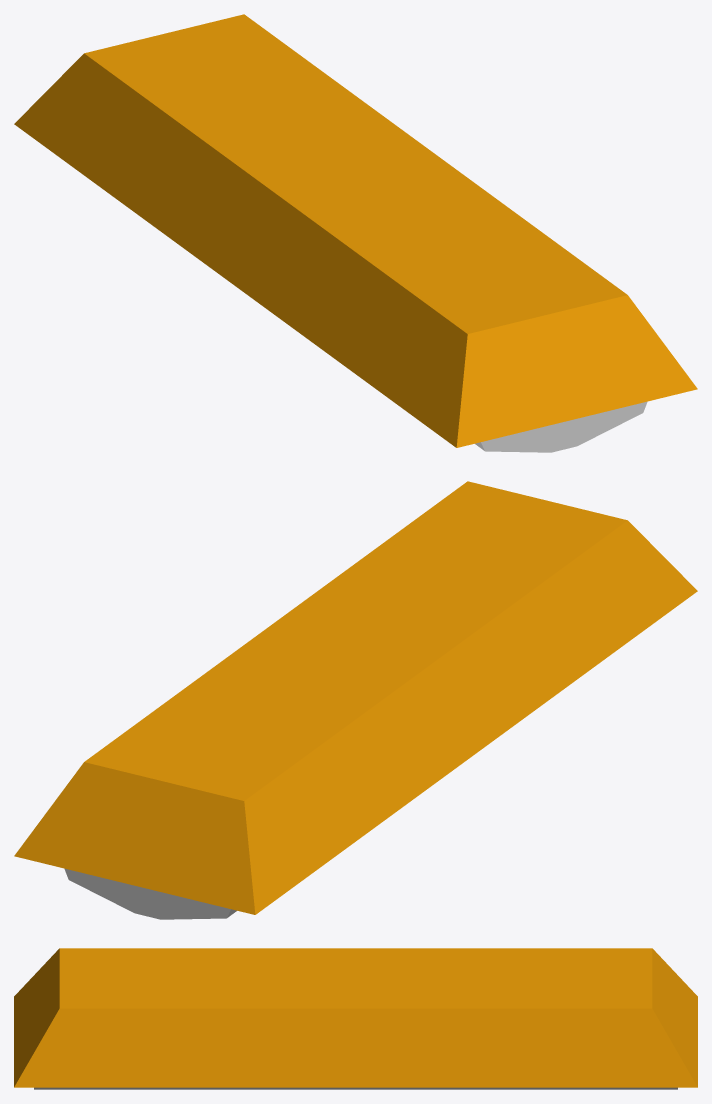
Rendered from lamp.fbx.
The picture shows the model from 3 angles, top to bottom: view 1: azimuth 30°, elevation 25°; view 2: azimuth 150°, elevation 25°; view 3: azimuth 270°, elevation 25°; orthographic projection. The views are drawn at different scales.
Visible parts, largest first — view 1: Cube; view 2: Cube; view 3: Cube.
Boxes of the visible parts, x1,y1,x2,y2 form: Cube: [14, 14, 697, 452]; Cube: [14, 481, 697, 919]; Cube: [14, 948, 697, 1089].
Size of the model in its own units: 56.43 by 27.46 by 179.
